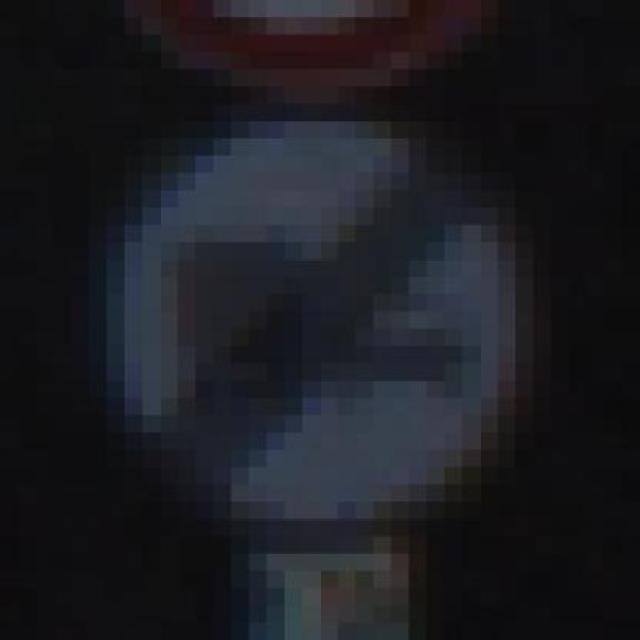Overtaking by trucks is prohibited: (53, 104, 587, 536)
